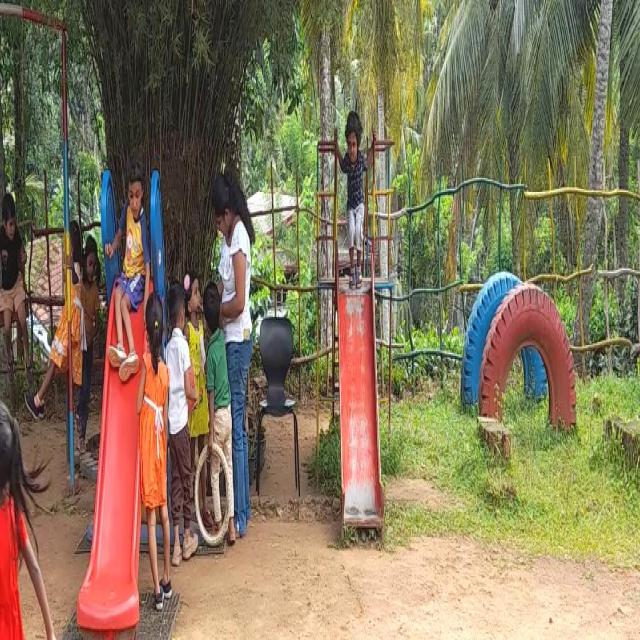adult: (218, 137, 260, 518)
child: (0, 398, 51, 640), (109, 159, 145, 376), (163, 287, 189, 559), (140, 293, 162, 591), (0, 171, 27, 390), (345, 96, 376, 282), (209, 276, 224, 542)
